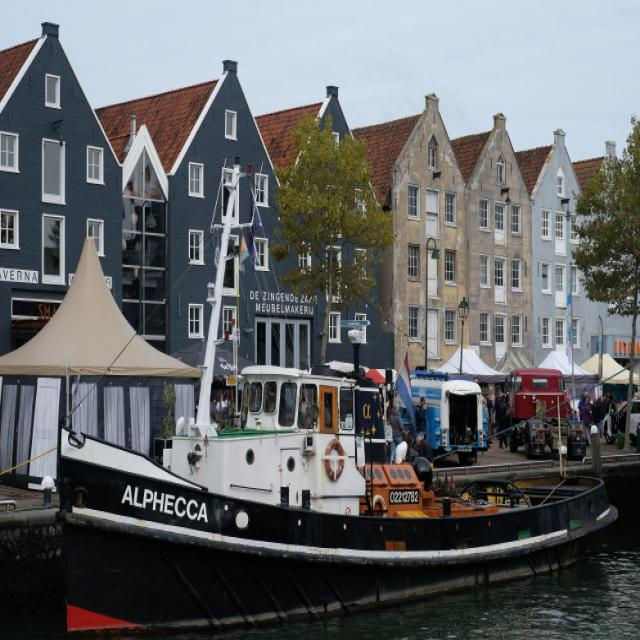tugboat: (55, 153, 622, 640)
